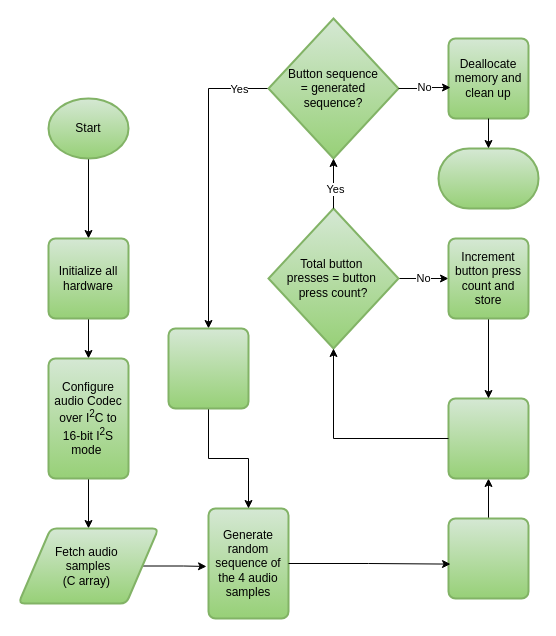
The diagram is 556 pixels wide and 636 high, and some of its shapes have lost their labels. The shapes that lost their labels are listed below. From the top down, each one's centre as x and y in pixels, then its label:
point 488,178: End
point 208,368: Increment score and sequence length
point 488,438: Wait for push button input
point 488,558: Write audio sample sequence to FPGA registers
